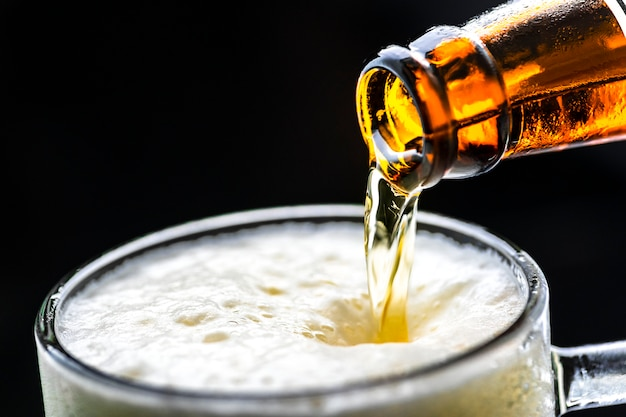alcohol: (37, 205, 626, 417), (354, 1, 626, 193)
